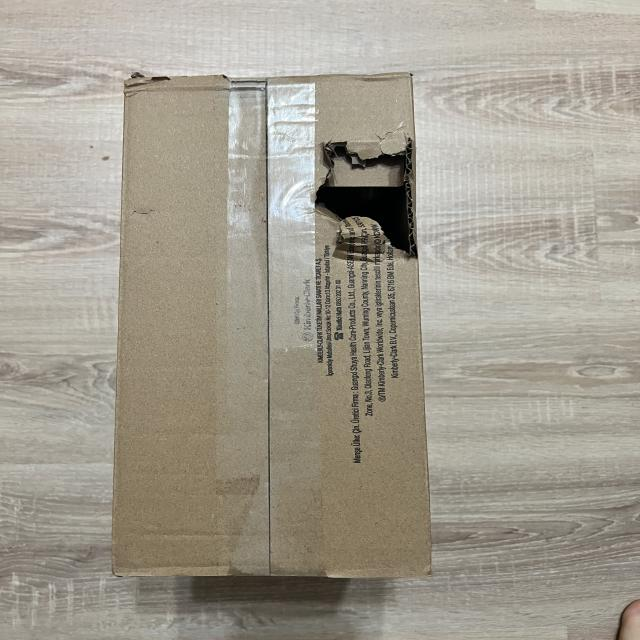damaged: (105, 64, 435, 588), (292, 119, 427, 280)
